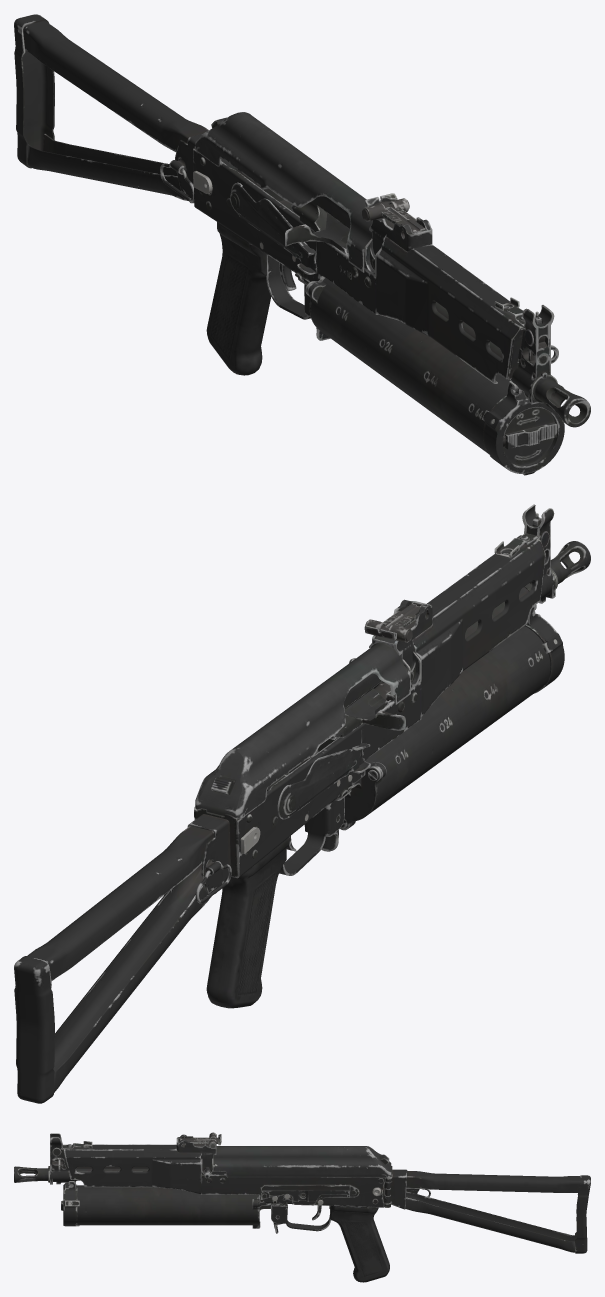
Rendered from bizon.glb.
3 views of the same model, one above another, from view 1: azimuth 30°, elevation 25°; view 2: azimuth 150°, elevation 25°; view 3: azimuth 270°, elevation 25° (orthographic). The views are drawn at different scales.
Visible parts, largest first — view 1: Bizon_CS2_weapon_smg_bizon_0; view 2: Bizon_CS2_weapon_smg_bizon_0; view 3: Bizon_CS2_weapon_smg_bizon_0.
Boxes of the visible parts, x1,y1,x2,y2 form: Bizon_CS2_weapon_smg_bizon_0: [14, 14, 590, 475]; Bizon_CS2_weapon_smg_bizon_0: [14, 504, 590, 1103]; Bizon_CS2_weapon_smg_bizon_0: [14, 1132, 590, 1282].
Bounding box in the file's own units: 0.086 × 0.2232 × 0.8008.
Materials: 1 (1 with a texture image).
